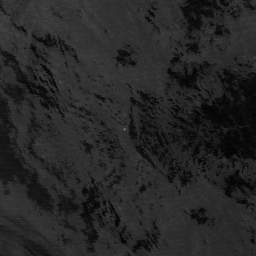Target: (121, 127, 127, 132)
